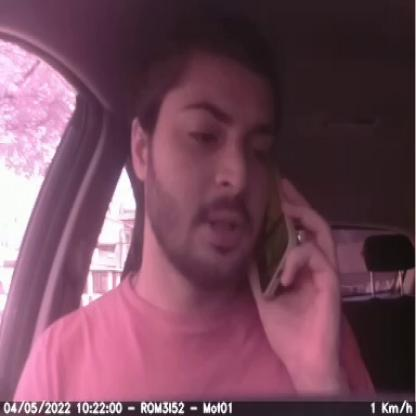phone: (256, 151, 300, 306)
